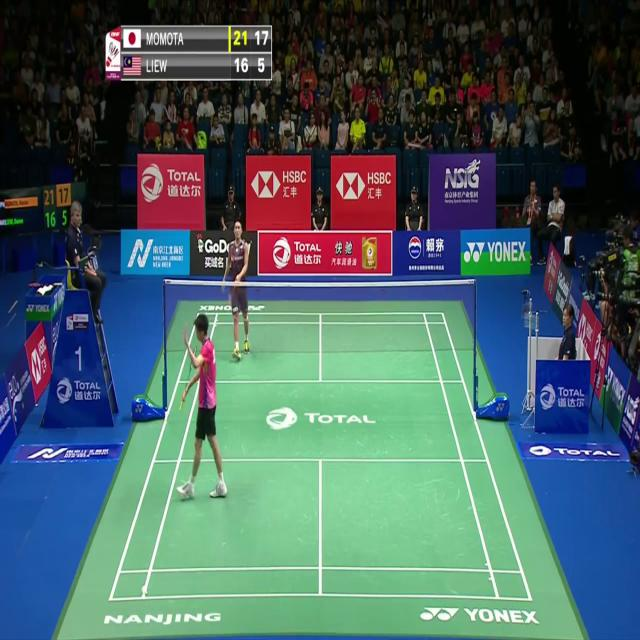Shuttlecock: (142, 585, 148, 597)
